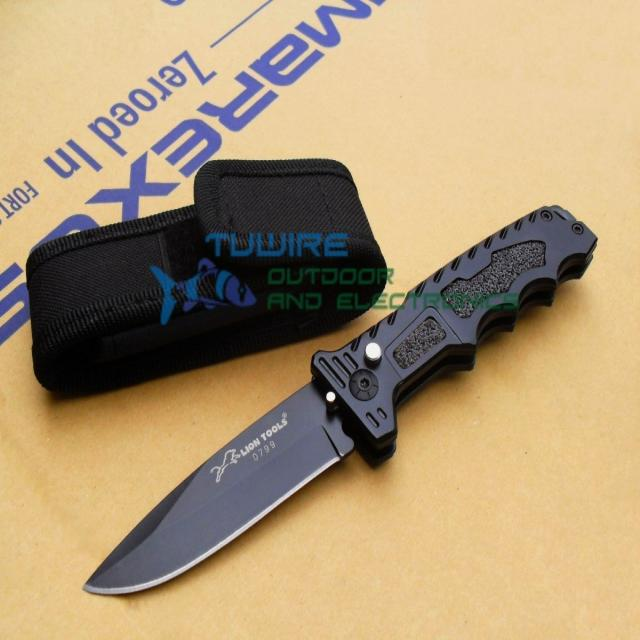knife: (78, 188, 606, 605)
